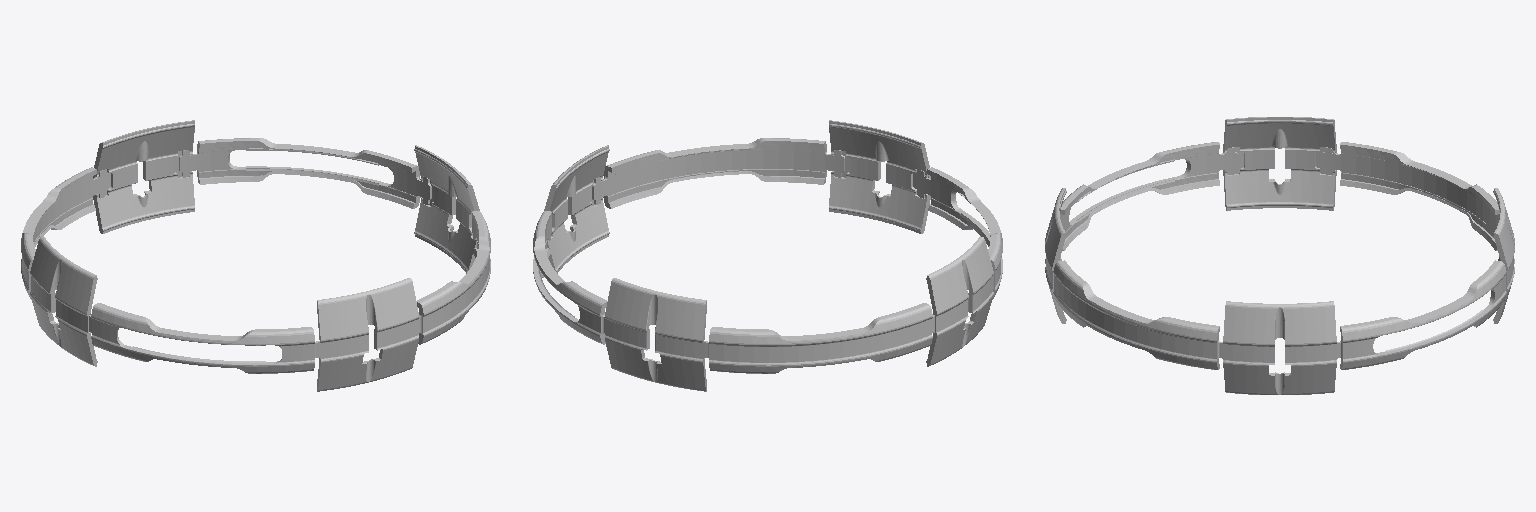
The model's file is Harness_Waistband_240604.obj.
3 views of the same model, side by side, from view 1: azimuth 30°, elevation 25°; view 2: azimuth 150°, elevation 25°; view 3: azimuth 270°, elevation 25° (orthographic).
Parts seen in each view (by area): view 1: Volumenkörper1:4, Volumenkörper1, Volumenkörper1:2, Volumenkörper1:6, Volumenkörper1:5, Volumenkörper1:3, Volumenkörper1:7, Volumenkörper1:1; view 2: Volumenkörper1:7, Volumenkörper1:1, Volumenkörper1, Volumenkörper1:4, Volumenkörper1:5, Volumenkörper1:3, Volumenkörper1:2, Volumenkörper1:6; view 3: Volumenkörper1:3, Volumenkörper1:5, Volumenkörper1:7, Volumenkörper1:1, Volumenkörper1:2, Volumenkörper1:6, Volumenkörper1, Volumenkörper1:4.
Part boxes in pixels (x1,y1,x2,y2): Volumenkörper1:4: (317, 278, 418, 391); Volumenkörper1: (93, 120, 194, 233); Volumenkörper1:2: (179, 138, 431, 208); Volumenkörper1:6: (89, 303, 319, 373); Volumenkörper1:5: (30, 236, 97, 366); Volumenkörper1:3: (414, 145, 479, 273); Volumenkörper1:7: (416, 211, 490, 344); Volumenkörper1:1: (21, 167, 106, 299); Volumenkörper1:7: (592, 138, 844, 208); Volumenkörper1:1: (704, 303, 934, 373); Volumenkörper1: (605, 278, 706, 391); Volumenkörper1:4: (829, 120, 930, 233); Volumenkörper1:5: (926, 236, 993, 366); Volumenkörper1:3: (544, 145, 609, 273); Volumenkörper1:2: (533, 211, 607, 344); Volumenkörper1:6: (917, 167, 1002, 299); Volumenkörper1:3: (1223, 301, 1336, 394); Volumenkörper1:5: (1223, 117, 1336, 210); Volumenkörper1:7: (1053, 260, 1222, 369); Volumenkörper1:1: (1322, 142, 1499, 250); Volumenkörper1:2: (1337, 260, 1506, 369); Volumenkörper1:6: (1060, 142, 1237, 250); Volumenkörper1: (1493, 188, 1514, 323); Volumenkörper1:4: (1045, 188, 1066, 323).
Bounding box in the file's own units: 348 × 74.3 × 348.